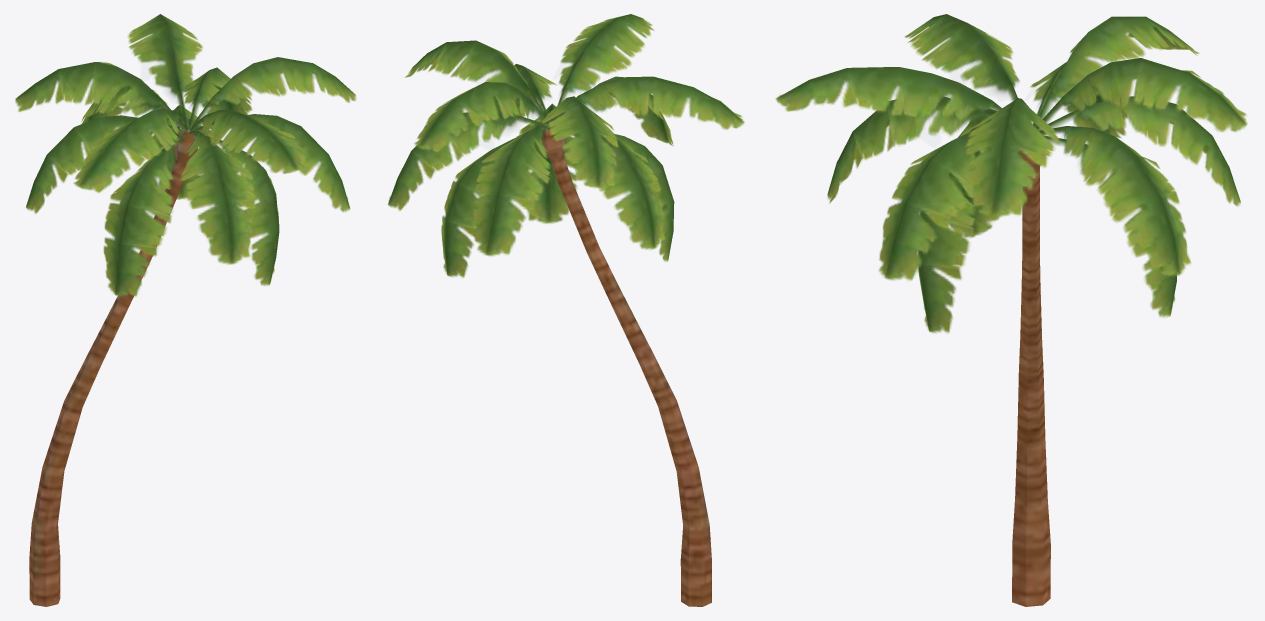
The model's file is bay-palm-2.lod1.glb.
The picture shows the model from 3 angles, left to right: view 1: azimuth 30°, elevation 25°; view 2: azimuth 150°, elevation 25°; view 3: azimuth 270°, elevation 25°; orthographic projection. The views are drawn at different scales.
Visible parts, largest first — view 1: Leaf_3_Leaf_3_0, Bark_3_Bark_3_0; view 2: Leaf_3_Leaf_3_0, Bark_3_Bark_3_0; view 3: Leaf_3_Leaf_3_0, Bark_3_Bark_3_0.
Part boxes in pixels (x1,y1,x2,y2): Leaf_3_Leaf_3_0: (15, 14, 356, 296); Bark_3_Bark_3_0: (29, 129, 197, 606); Leaf_3_Leaf_3_0: (388, 14, 744, 277); Bark_3_Bark_3_0: (541, 126, 711, 606); Leaf_3_Leaf_3_0: (775, 14, 1247, 333); Bark_3_Bark_3_0: (1012, 150, 1050, 606).
Size of the model in its own units: 4.19 by 6.5 by 4.36.
2 materials, 2 textured.
